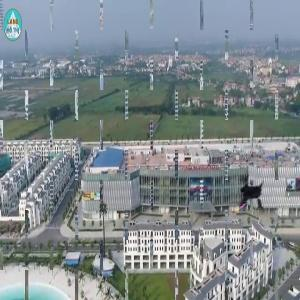drone: (218, 168, 275, 225)
